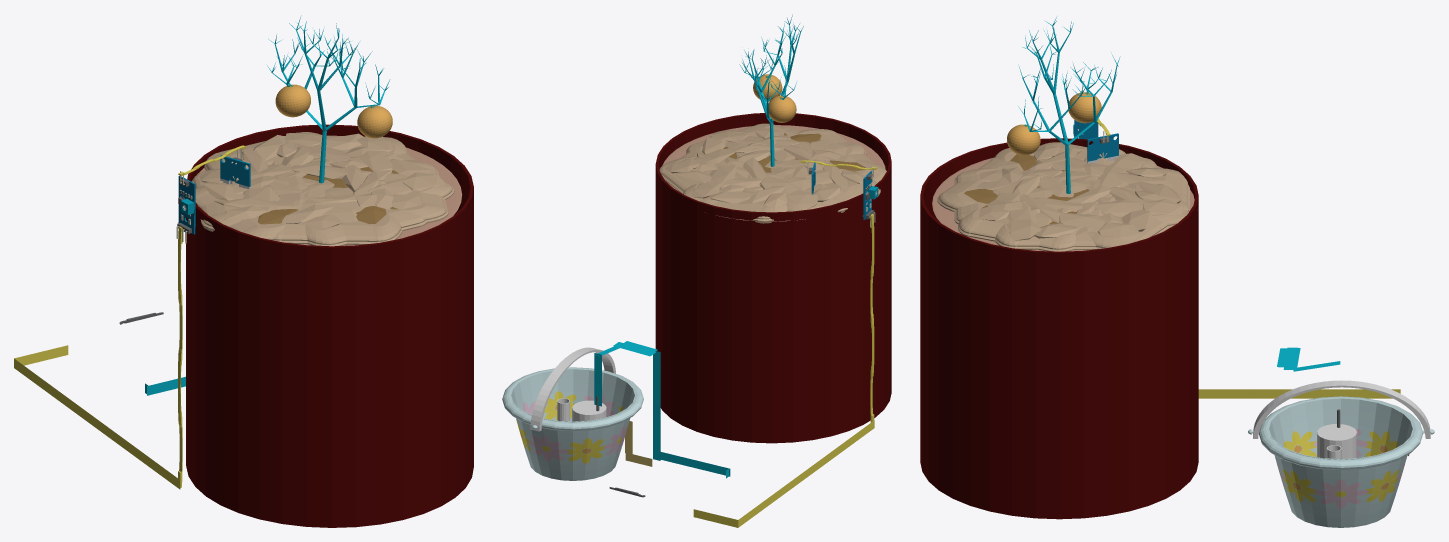
File: pot.glb
3 views of the same model, side by side, from view 1: azimuth 30°, elevation 25°; view 2: azimuth 150°, elevation 25°; view 3: azimuth 270°, elevation 25° (orthographic). The views are drawn at different scales.
Parts seen in each view (by area): view 1: Mesh_Mesh_head_geo.001_lambert2SG.001; view 2: Mesh_Mesh_head_geo.001_lambert2SG.001; view 3: Mesh_Mesh_head_geo.001_lambert2SG.001.
Boxes of the visible parts, bbox=[...] form: Mesh_Mesh_head_geo.001_lambert2SG.001: bbox=[14, 15, 473, 527]; Mesh_Mesh_head_geo.001_lambert2SG.001: bbox=[502, 14, 891, 527]; Mesh_Mesh_head_geo.001_lambert2SG.001: bbox=[920, 17, 1434, 527].
Bounding box in the file's own units: 0.2 × 0.2814 × 0.303.
